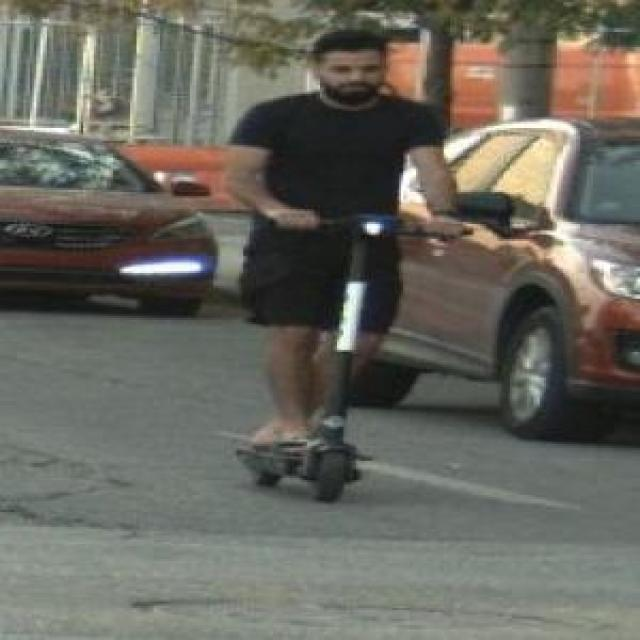pedestrian: (225, 30, 473, 503)
